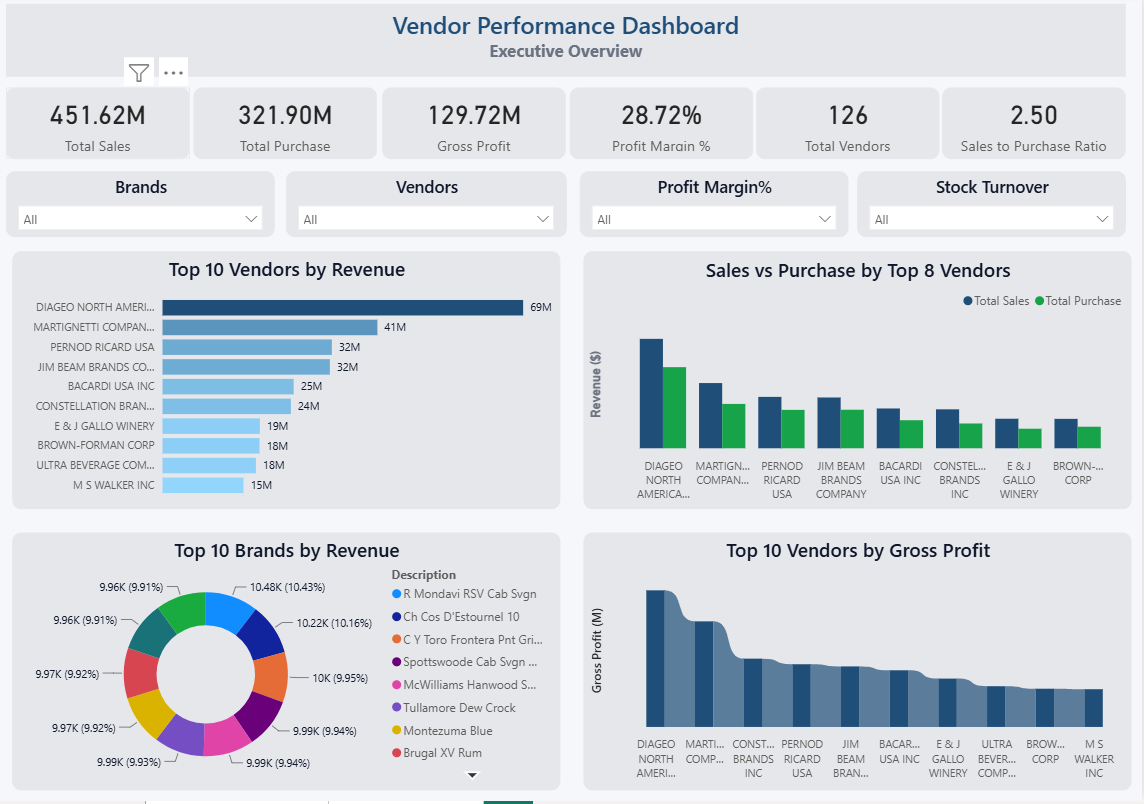

This screenshot's page, from the dashboard's own definition file:
{"tool":"powerbi","page":{"name":"Executive Overview","canvas":[1280,900],"ordinal":0},"visuals":[{"type":"textbox","box":[11.7,10,1250,81.7],"z":0},{"type":"card","fields":{"Values":["Measures (2).Total Sales"]},"box":[11.7,103.3,205,80],"z":1000},{"type":"card","fields":{"Values":["Measures (2).Gross Profit"]},"box":[431.7,103.3,205,80],"z":2000},{"type":"card","fields":{"Values":["Measures (2).Total Purchase"]},"box":[221,103.3,205,80],"z":3000},{"type":"card","fields":{"Values":["Measures (2).Profit Margin %"]},"box":[640,103.3,205,80],"z":4000},{"type":"card","fields":{"Values":["Measures (2).Total Vendors"]},"box":[848.3,103.3,205,80],"z":5000},{"type":"card","fields":{"Values":["Measures (2).Sales to Purchase Ratio"]},"box":[1056.7,103.3,205,80],"z":6000},{"type":"clusteredBarChart","title":"Top 10 Vendors by Revenue","fields":{"Category":["Vendor_sales_summary.VendorName"],"Y":["Measures (2).Total Sales"]},"box":[18.3,286.7,611.7,288.3],"z":7000},{"type":"clusteredColumnChart","title":"Sales vs Purchase by Top 8 Vendors","fields":{"Category":["Vendor_sales_summary.VendorName"],"Y":["Measures (2).Total Sales","Measures (2).Total Purchase"]},"box":[656.7,286.7,611.7,288.3],"z":8000},{"type":"donutChart","title":"Top 10 Brands by Revenue","fields":{"Category":["Brand_performance.Description"],"Y":["Sum(Brand_performance.TotalSalesDollars)"]},"box":[18.3,600,611.7,288.3],"z":9000},{"type":"ribbonChart","title":"Top 10 Vendors by Gross Profit","fields":{"Category":["vendor_performance.VendorName"],"Y":["Sum(vendor_performance.GrossProfit)"]},"box":[656.7,600,612,288.3],"z":10000},{"type":"slicer","title":"Vendors","fields":{"Values":["Vendor_sales_summary.VendorName"]},"box":[323.3,196.7,313.3,73.3],"z":11000},{"type":"slicer","title":"Brands","fields":{"Values":["Vendor_sales_summary.Description"]},"box":[11.7,196.7,300,73.3],"z":12000},{"type":"slicer","title":"Profit Margin%","fields":{"Values":["Vendor_sales_summary.ProfitMargin"]},"box":[651.7,196.7,300,73.3],"z":13000},{"type":"slicer","title":"Stock Turnover","fields":{"Values":["Vendor_sales_summary.StockTurnover"]},"box":[961.7,196.7,300,73.3],"z":14000}]}

Visuals, with their boxes in screenshot pixels (x1, y1, x2, y2), scaled from the page's 1280x900 canvas onto the 1144x804 screenshot:
textbox: detection(10, 9, 1128, 82)
card - Measures (2).Total Sales: detection(10, 92, 194, 164)
card - Measures (2).Gross Profit: detection(386, 92, 569, 164)
card - Measures (2).Total Purchase: detection(198, 92, 381, 164)
card - Measures (2).Profit Margin %: detection(572, 92, 755, 164)
card - Measures (2).Total Vendors: detection(758, 92, 941, 164)
card - Measures (2).Sales to Purchase Ratio: detection(944, 92, 1128, 164)
"Top 10 Vendors by Revenue" clusteredBarChart: detection(16, 256, 563, 514)
"Sales vs Purchase by Top 8 Vendors" clusteredColumnChart: detection(587, 256, 1134, 514)
"Top 10 Brands by Revenue" donutChart: detection(16, 536, 563, 794)
"Top 10 Vendors by Gross Profit" ribbonChart: detection(587, 536, 1134, 794)
"Vendors" slicer: detection(289, 176, 569, 241)
"Brands" slicer: detection(10, 176, 279, 241)
"Profit Margin%" slicer: detection(582, 176, 851, 241)
"Stock Turnover" slicer: detection(860, 176, 1128, 241)
